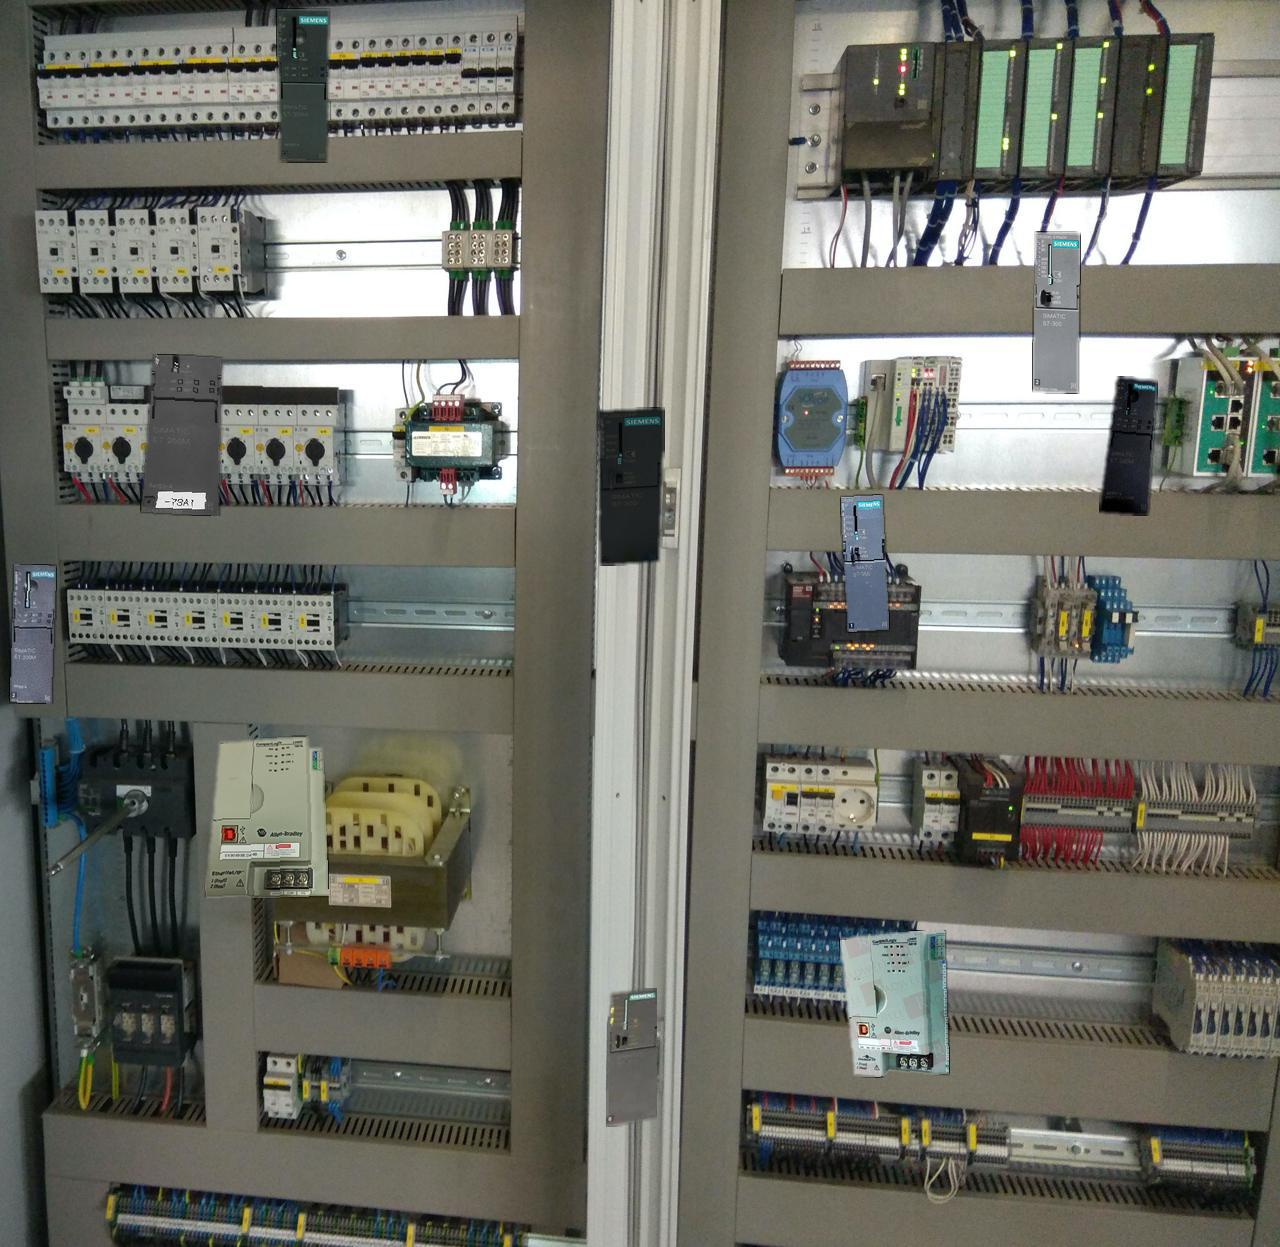AllenBradley: (206, 737, 328, 896), (840, 932, 949, 1076)
Siemens: (598, 408, 663, 563), (1033, 232, 1079, 392), (606, 988, 656, 1126), (841, 495, 888, 631)
